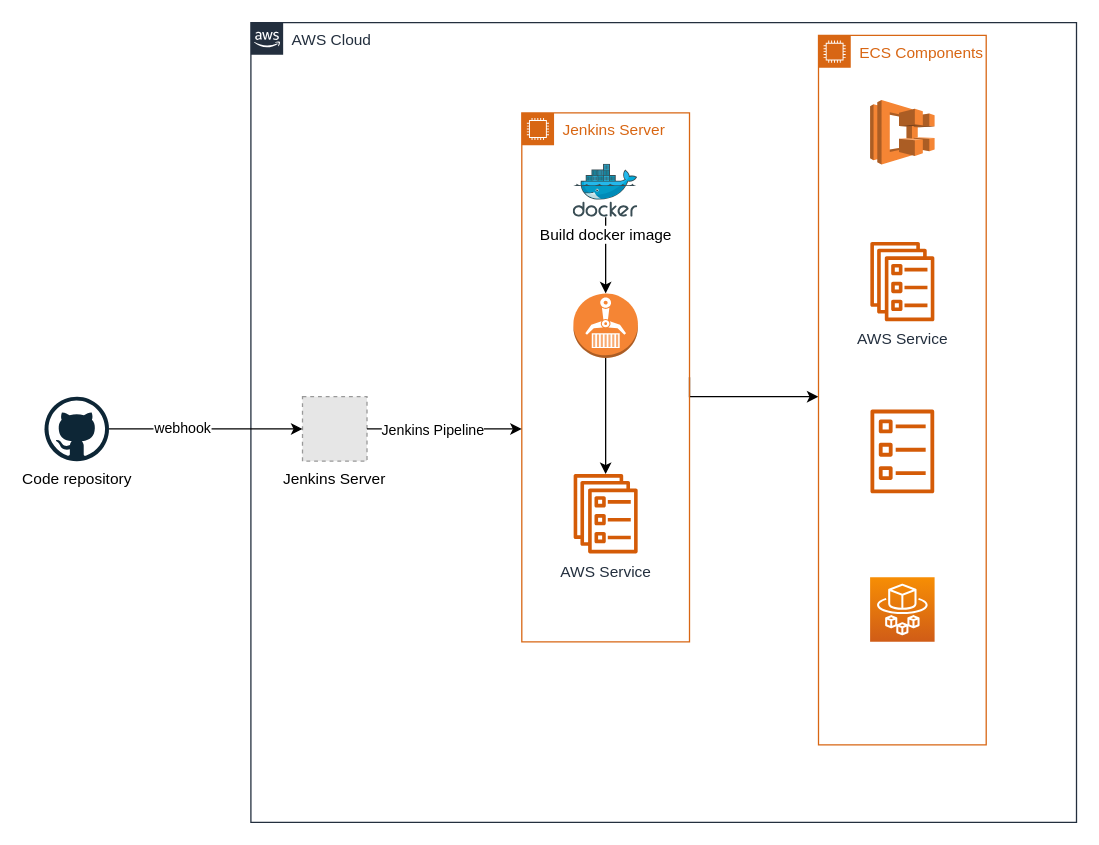
The diagram is 1099 pixels wide and 845 high, and some of its shapes have lost their labels. Grey dashed boxes stand in for pictures. The centre of each missing label's shape, as x and y in pixels:
AWS Fargate: point 902,609
Cluster: point 902,131
Elastic Container Registry: point 605,325
Task definition: point 901,451
